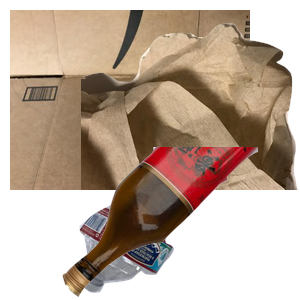cardboard: (10, 10, 250, 190)
glass: (60, 147, 300, 300)
plastic: (76, 131, 280, 300)
trash: (81, 21, 300, 201)
